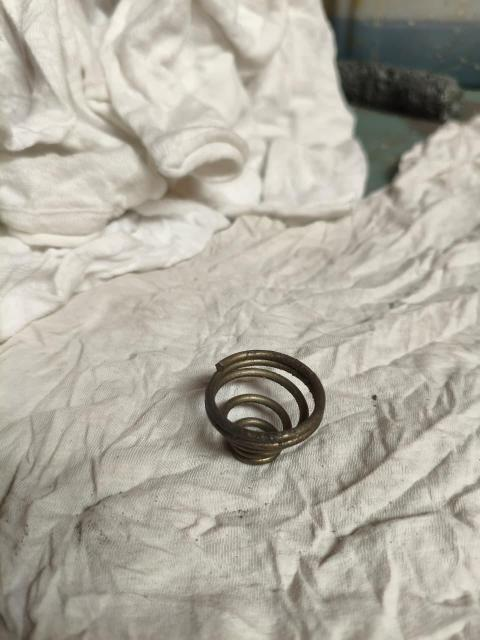Metal: (208, 350, 328, 460)
